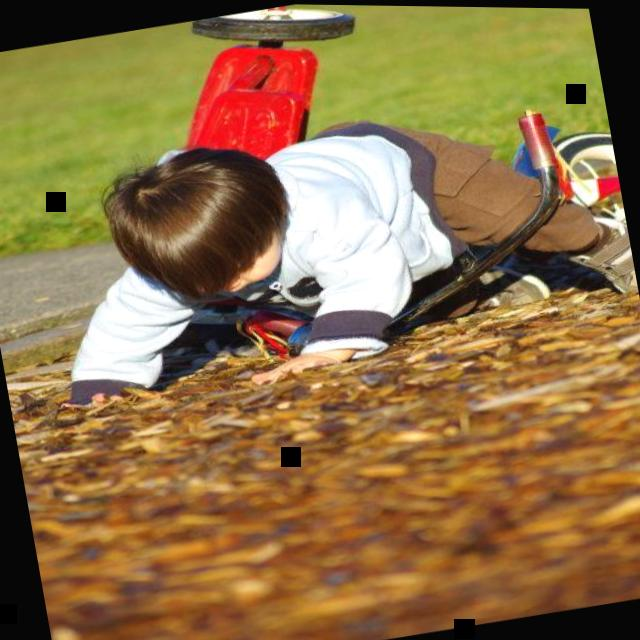Fall-Detected: (13, 31, 640, 431)
